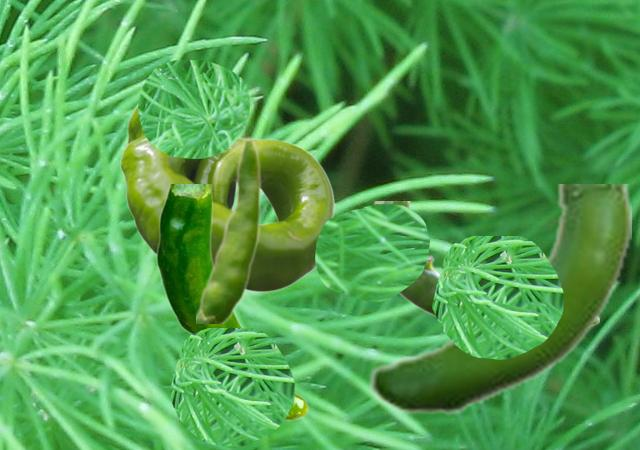green_chili: (367, 184, 630, 416), (120, 104, 333, 291), (156, 184, 308, 420), (373, 201, 598, 325), (196, 135, 261, 322)
